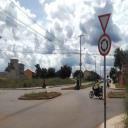Rotatoria: (98, 33, 112, 56)
preferencia: (98, 12, 111, 33)
